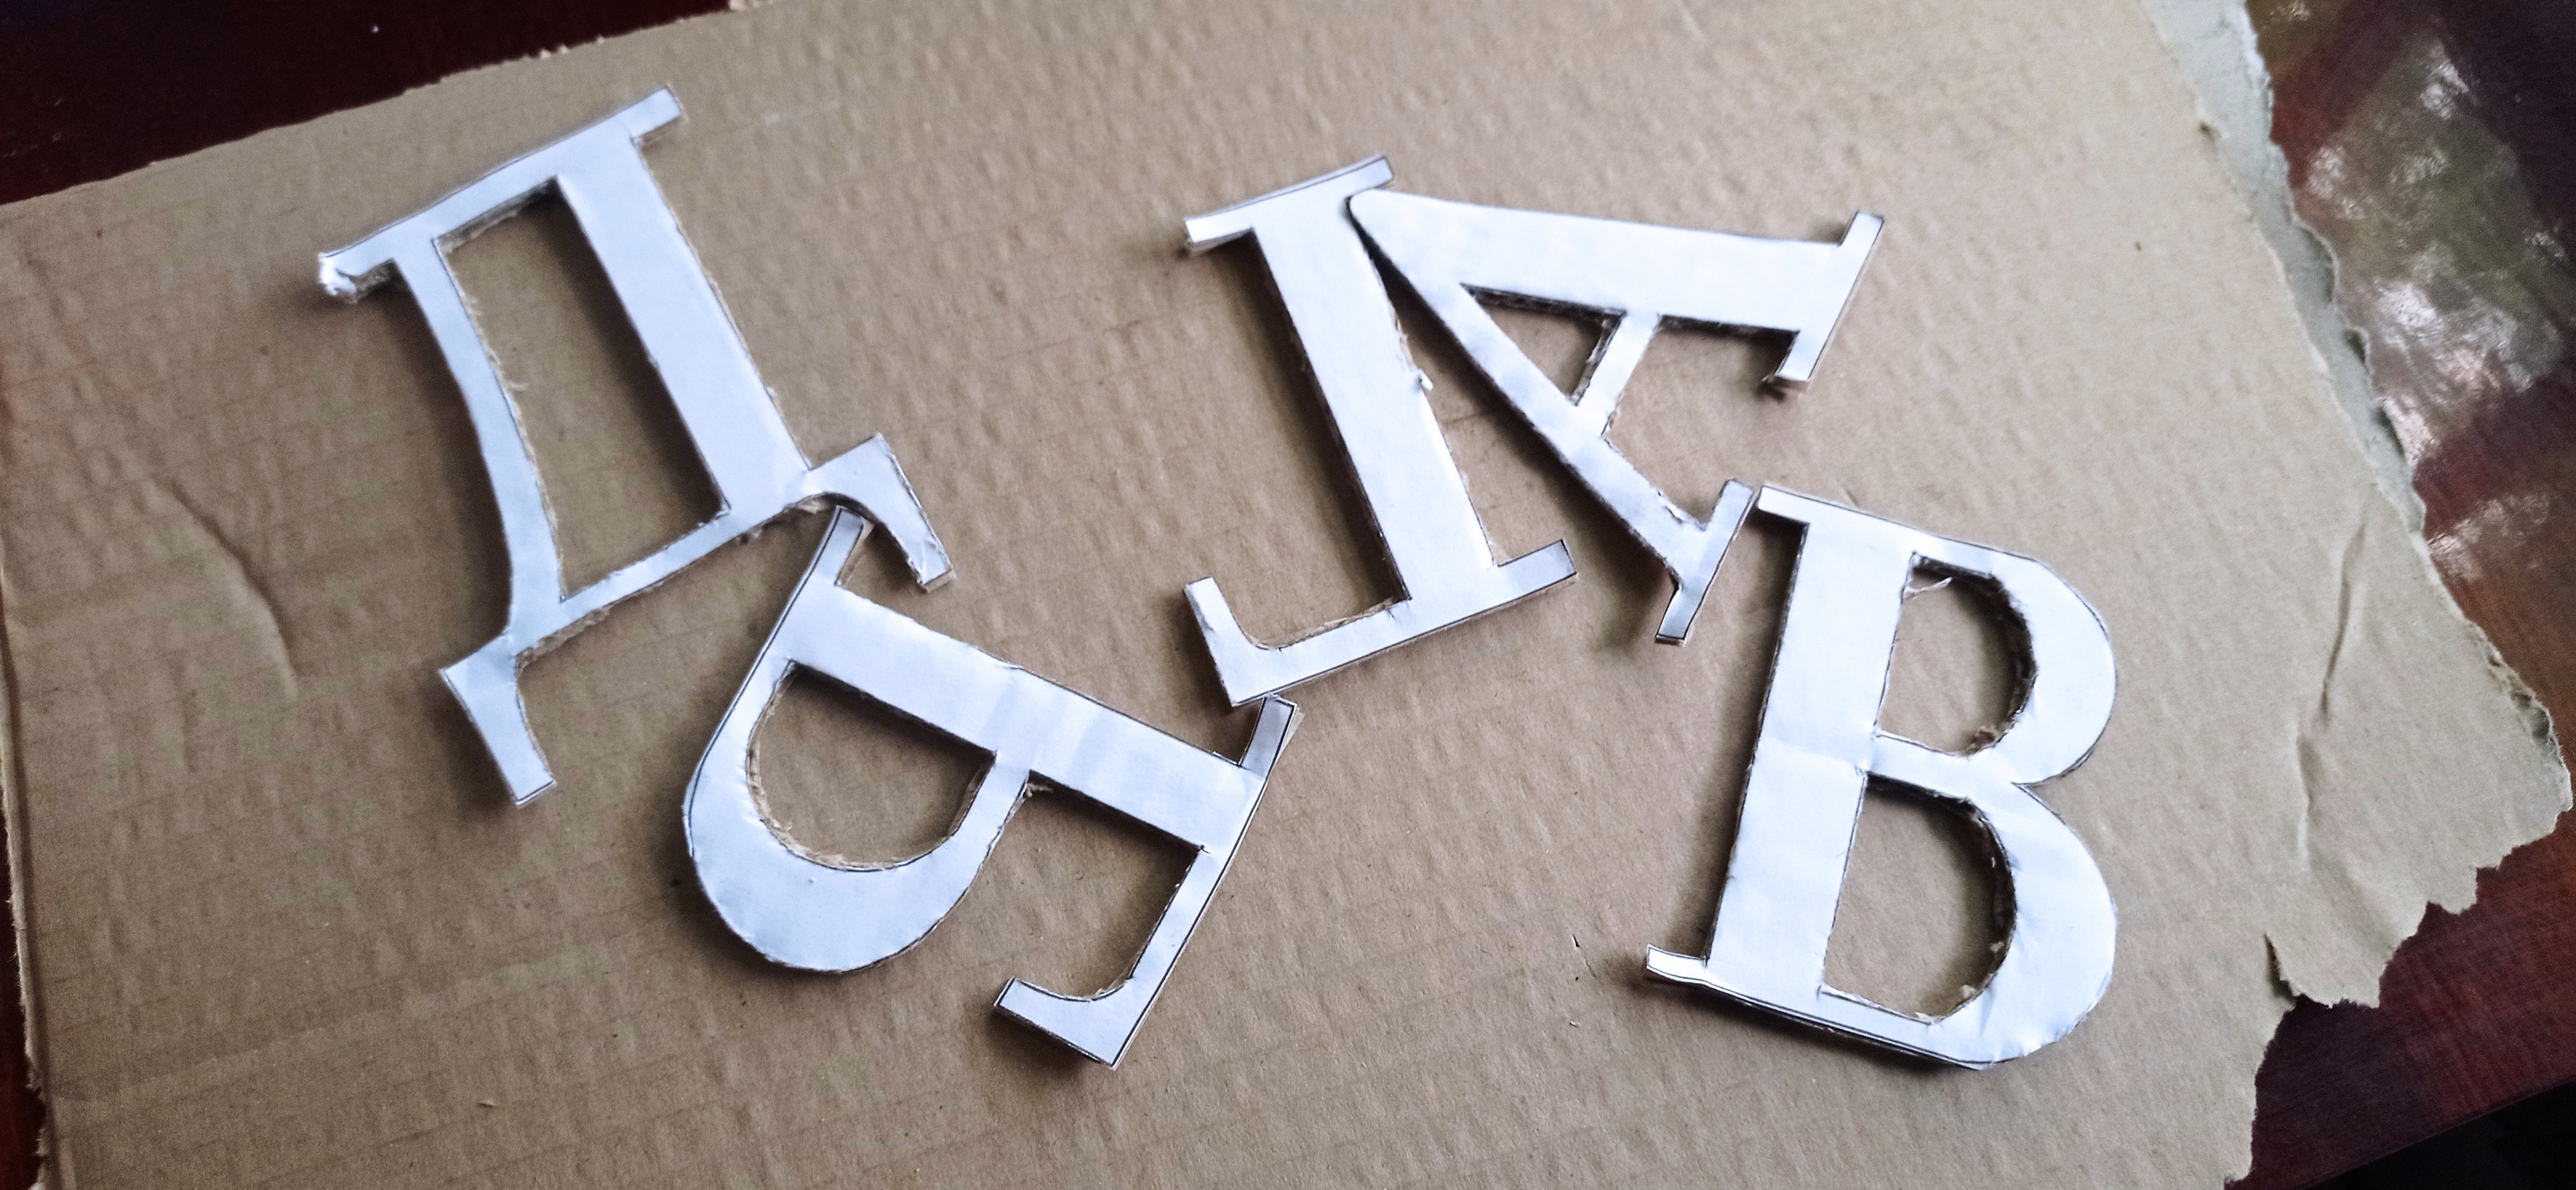a: (1346, 181, 1886, 651)
b: (680, 505, 1303, 1073)
d: (310, 85, 958, 817)
g: (1176, 153, 1580, 712)
v: (1641, 480, 2118, 1077)
